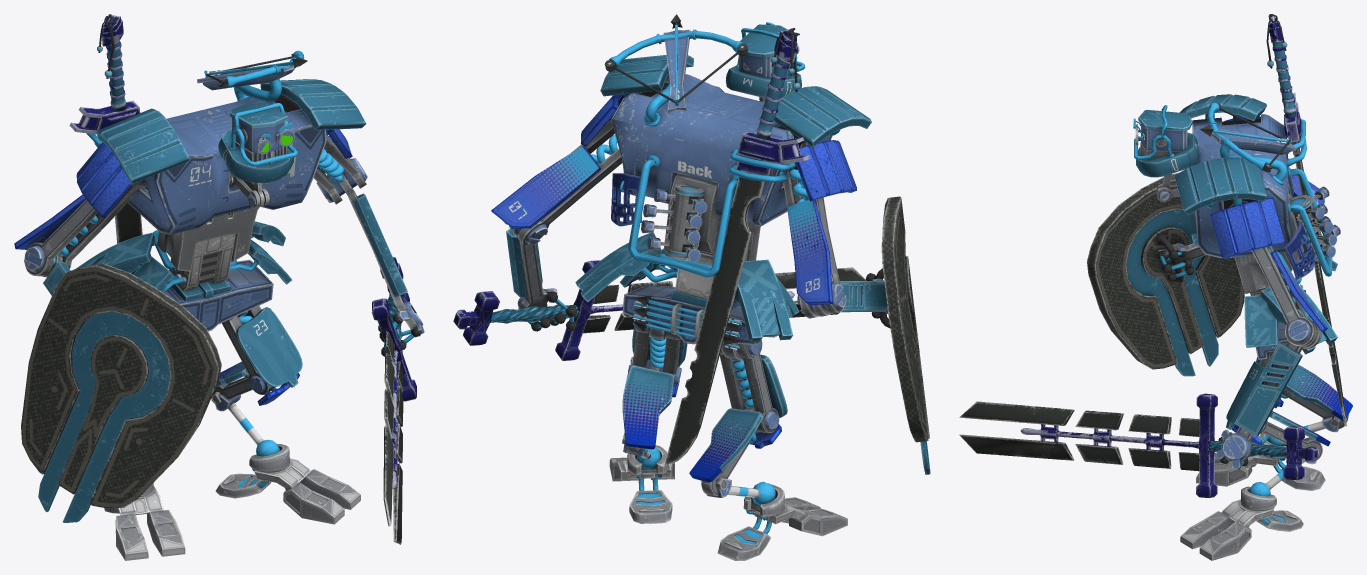
The model's file is experience.glb.
3 renders of one model, left to right at view 1: azimuth 30°, elevation 25°; view 2: azimuth 150°, elevation 25°; view 3: azimuth 270°, elevation 25°, orthographic. The views are drawn at different scales.
Parts seen in each view (by area): view 1: B, A; view 2: B, A; view 3: B, A.
Boxes of the visible parts, x1,y1,x2,y2 form: B: [14, 14, 416, 544]; A: [24, 95, 424, 560]; B: [453, 14, 930, 482]; A: [502, 22, 888, 560]; B: [959, 14, 1352, 497]; A: [1133, 105, 1348, 560].
Size of the model in its own units: 1.26 by 1.47 by 1.15.
Materials: 2 (2 with a texture image).
